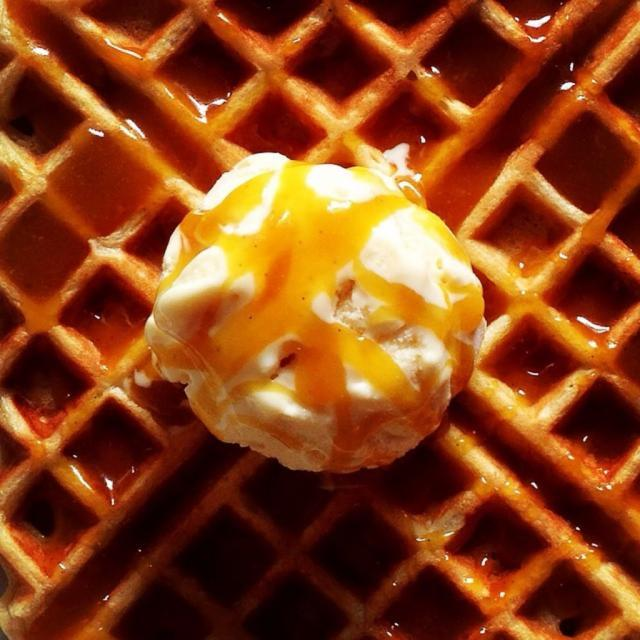Waffle: (0, 0, 637, 639)
